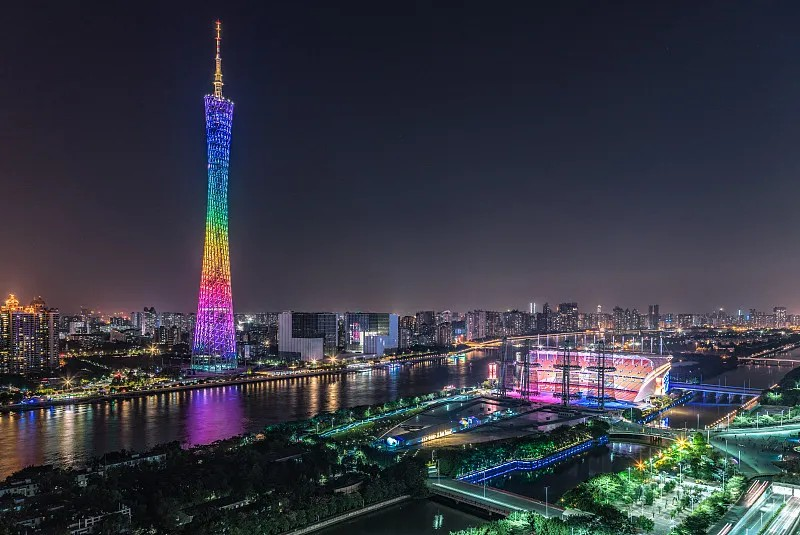Canton: (189, 19, 240, 371)
